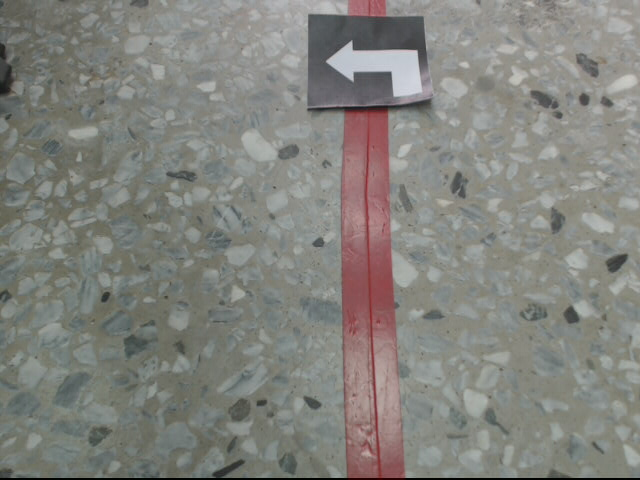left: (307, 12, 436, 112)
